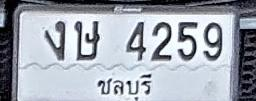2: (150, 21, 172, 60)
4: (126, 20, 146, 61)
5: (178, 21, 198, 60)
9: (203, 22, 222, 60)
A07: (44, 20, 66, 60)
A39: (74, 20, 100, 60)
CBI: (94, 72, 157, 101)
